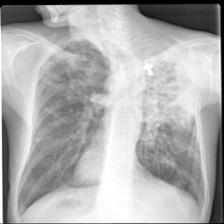tuberculosis: (11, 30, 211, 223)
